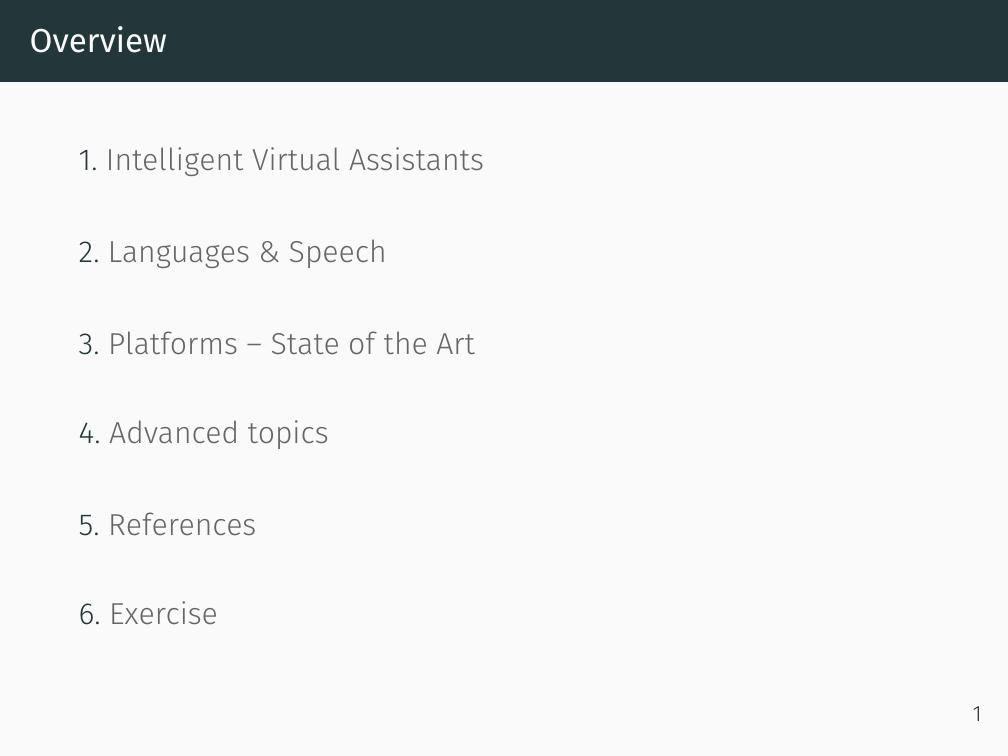Title: (23, 19, 178, 64)
